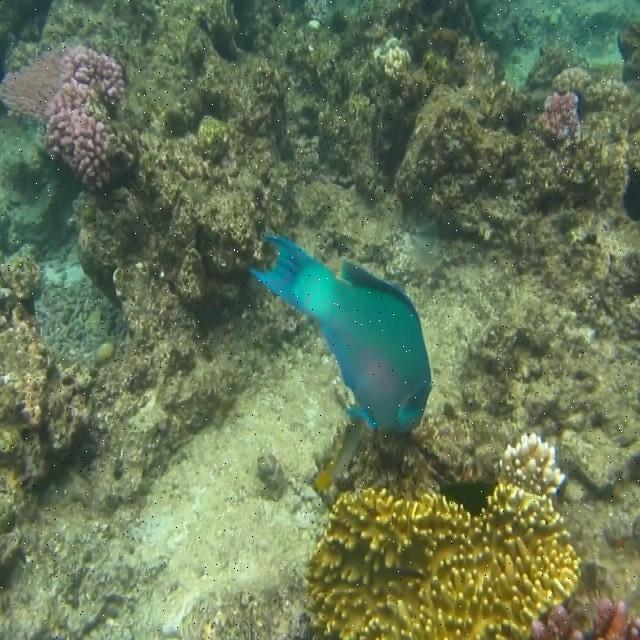fish: (245, 236, 432, 434)
reefs: (305, 436, 579, 639), (0, 42, 128, 191), (531, 598, 639, 639), (540, 94, 581, 137)
